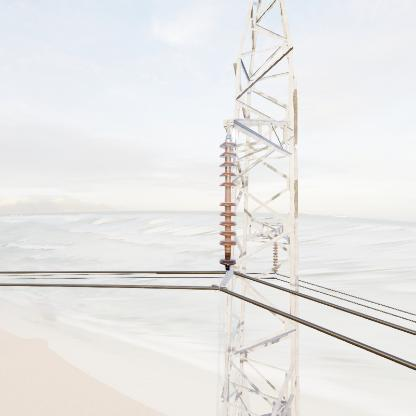insulator: (217, 137, 241, 274)
